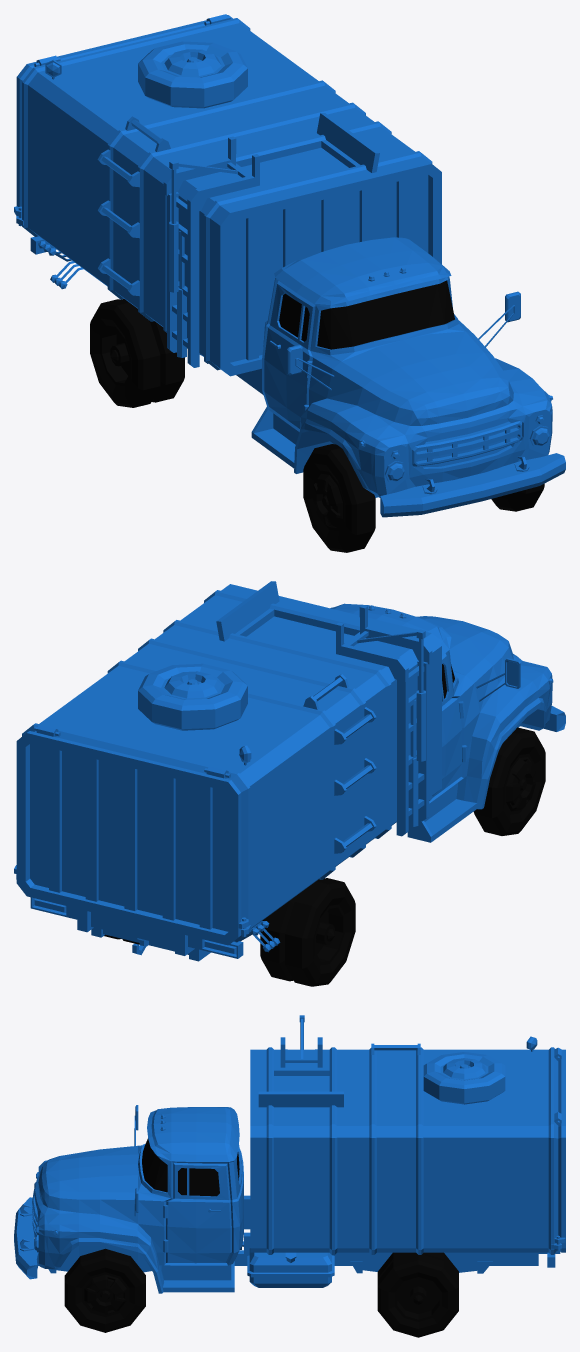
The model's file is SM_garbage_truck.fbx.
3 renders of one model, top to bottom at view 1: azimuth 30°, elevation 25°; view 2: azimuth 150°, elevation 25°; view 3: azimuth 270°, elevation 25°, orthographic. The views are drawn at different scales.
Parts seen in each view (by area): view 1: Cube_5, Cylinder_3, Cylinder_2, Cylinder; view 2: Cube_5, Cylinder_3, Cylinder_2; view 3: Cube_5, Cylinder_3, Cylinder.
Boxes of the visible parts, x1,y1,x2,y2 form: Cube_5: (14,14,565,517); Cylinder_3: (90,299,184,407); Cylinder_2: (303,444,375,552); Cylinder: (491,483,544,511); Cube_5: (14,581,565,961); Cylinder_3: (104,878,355,986); Cylinder_2: (473,727,545,835); Cube_5: (14,1015,565,1293); Cylinder_3: (377,1252,458,1337); Cylinder: (64,1248,145,1332).
Bounding box in the file's own units: 287 × 340 × 725.
